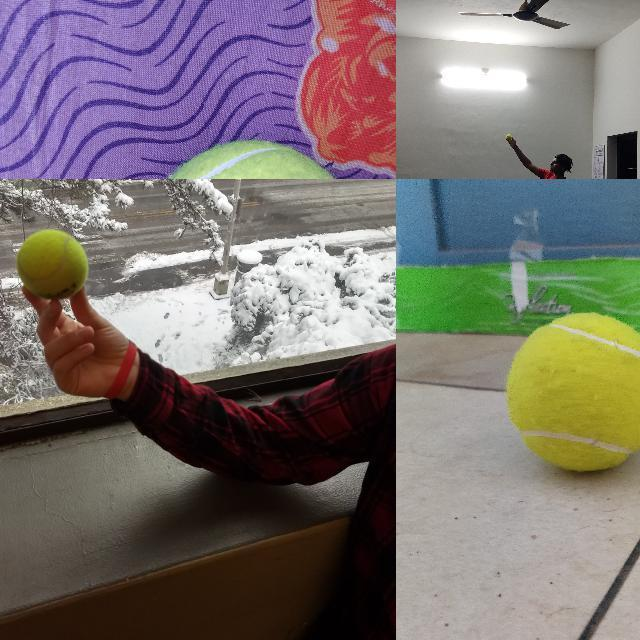tennis-ball: (505, 311, 639, 474), (16, 229, 89, 300), (505, 134, 511, 140)
